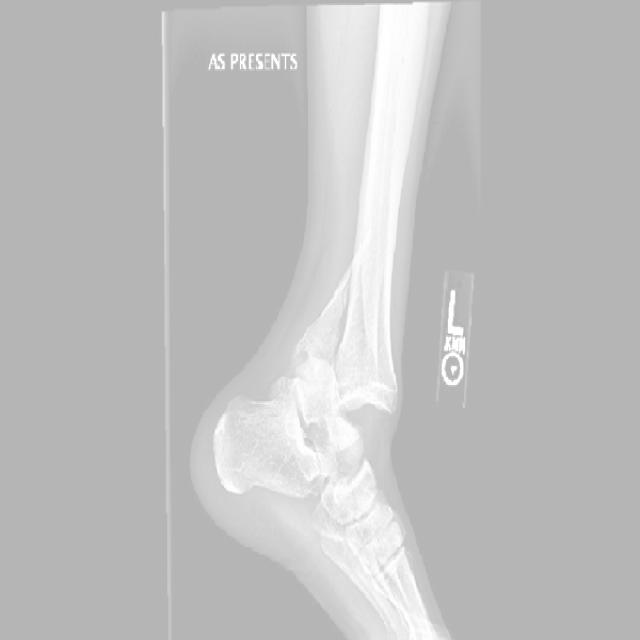Fracture Dislocation: (343, 382, 396, 440)
